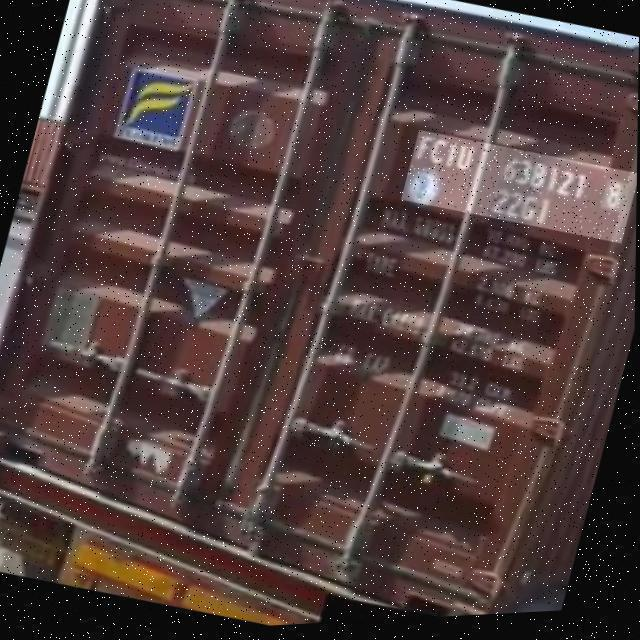ISO: (488, 188, 564, 230)
container_number: (418, 130, 624, 205)
